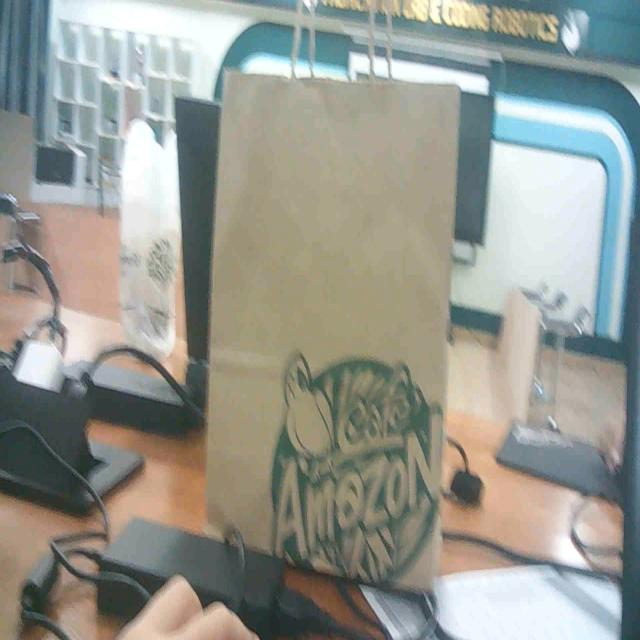bag: (190, 16, 480, 608)
